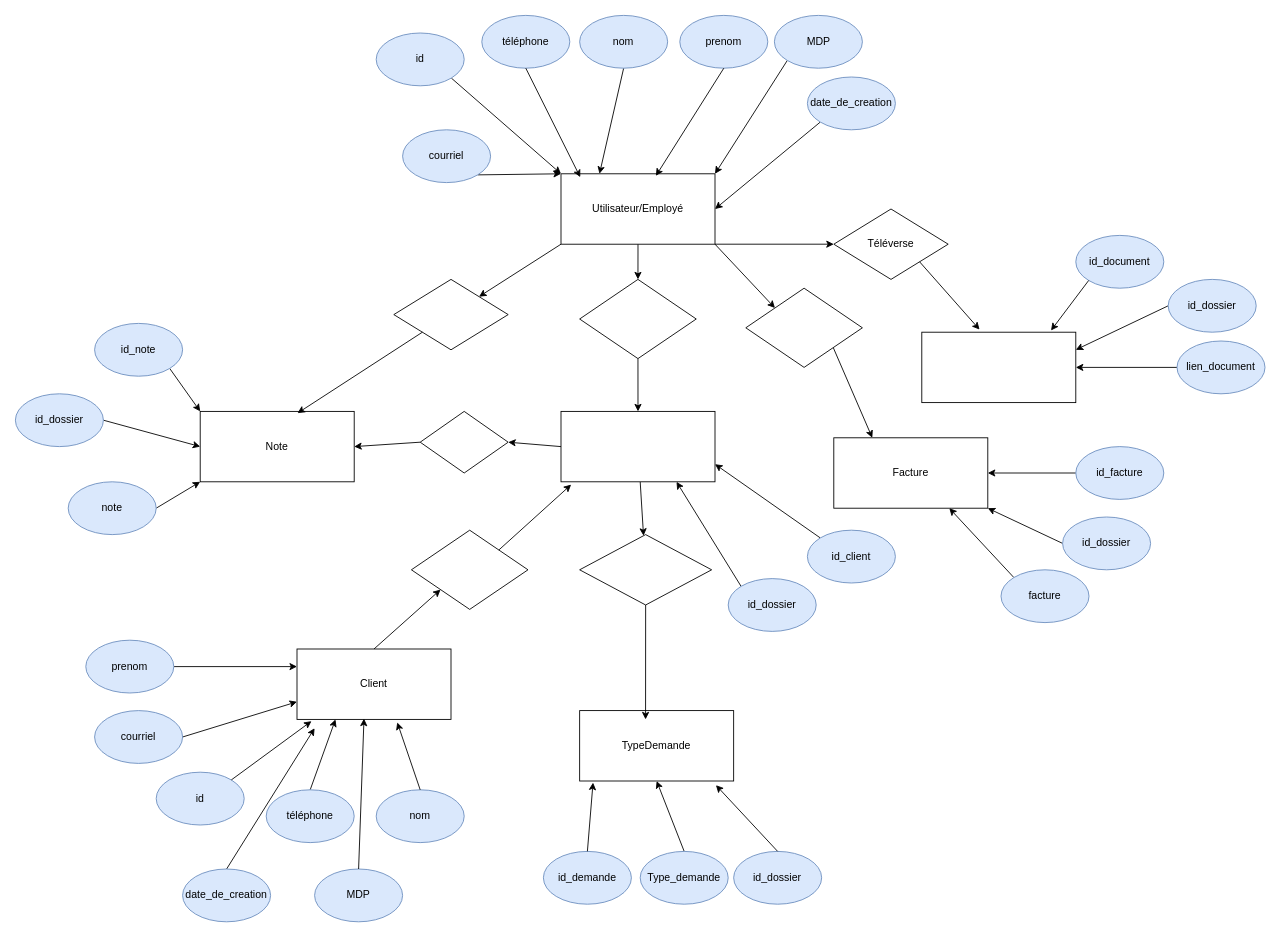
Some shapes in this 1280 by 937 pixel diagram are drawn without their labels. The box of each missing label's shape, as (x1, y1, x2, y2) in pixels:
Comporte: (419, 411, 508, 473)
Concerne: (579, 534, 712, 605)
Crée: (745, 287, 862, 367)
Document: (921, 331, 1076, 403)
Dossier: (560, 411, 715, 482)
Est lié a des: (411, 529, 528, 609)
Gere: (579, 279, 696, 359)
Rédige: (393, 279, 508, 350)
